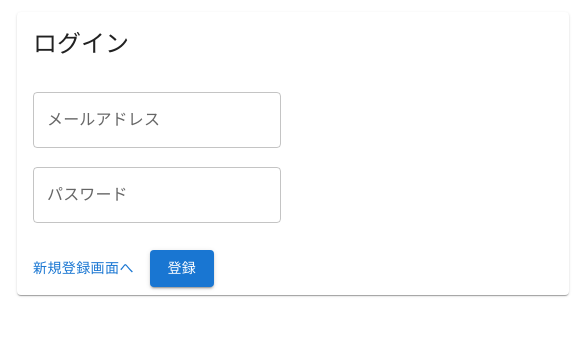
TalkRoomListItem › loginPassword › 文字数不足でエラー
Type "hoge" into the field with test id "loginPassword".
click(157, 195); type("hoge")  # box 33,167 -> 281,223
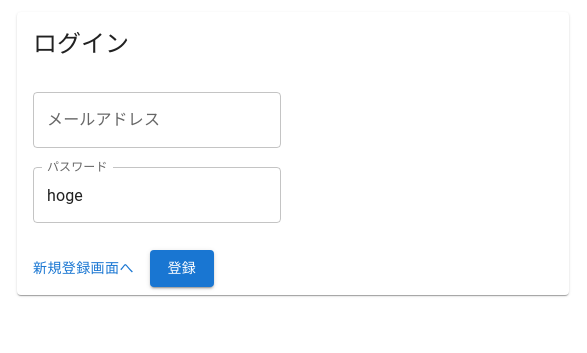
Click the button with test id "submitBtn".
click(182, 268)  # box 150,250 -> 214,286
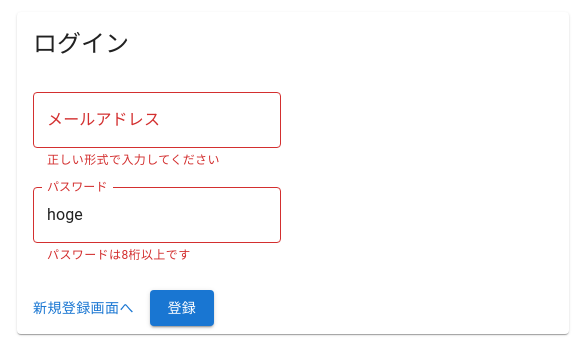
Expected: the text with test id "loginPasswordErr" reads "パスワードは8桁以上です", 47,248 -> 190,262
